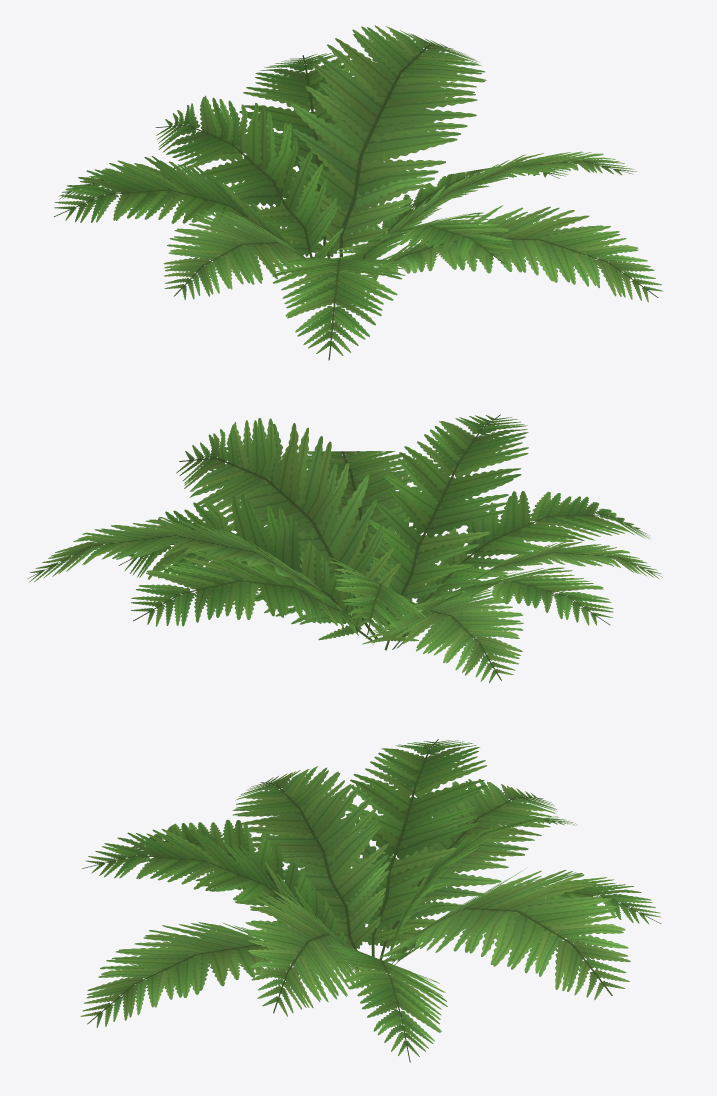
Rendered from Fern_A.fbx.
3 views of the same model, one above another, from view 1: azimuth 30°, elevation 25°; view 2: azimuth 150°, elevation 25°; view 3: azimuth 270°, elevation 25° (orthographic). The views are drawn at different scales.
Parts seen in each view (by area): view 1: Fern_A; view 2: Fern_A; view 3: Fern_A.
Boxes of the visible parts, left/top/right/bottom form: Fern_A: left=54, top=25, right=662, bottom=360; Fern_A: left=27, top=414, right=662, bottom=682; Fern_A: left=80, top=739, right=661, bottom=1062.
Bounding box in the file's own units: 1.51 × 0.4344 × 1.54.
Materials: 1 (1 with a texture image).
